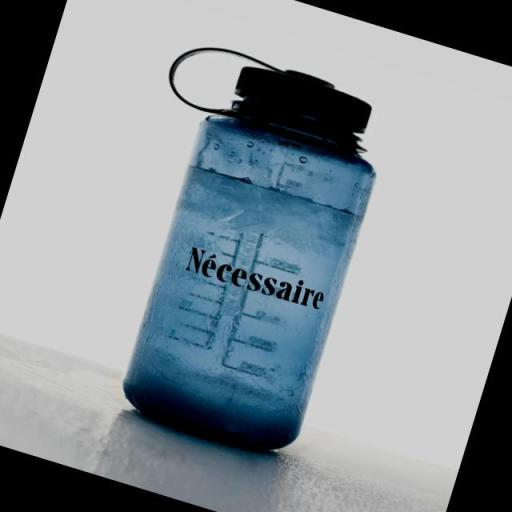bottle: (70, 34, 400, 464)
